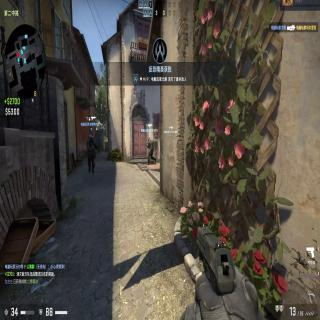CT-Body: (86, 131, 98, 175), (146, 137, 156, 165)
CT-Head: (89, 133, 94, 138), (147, 137, 151, 141)
